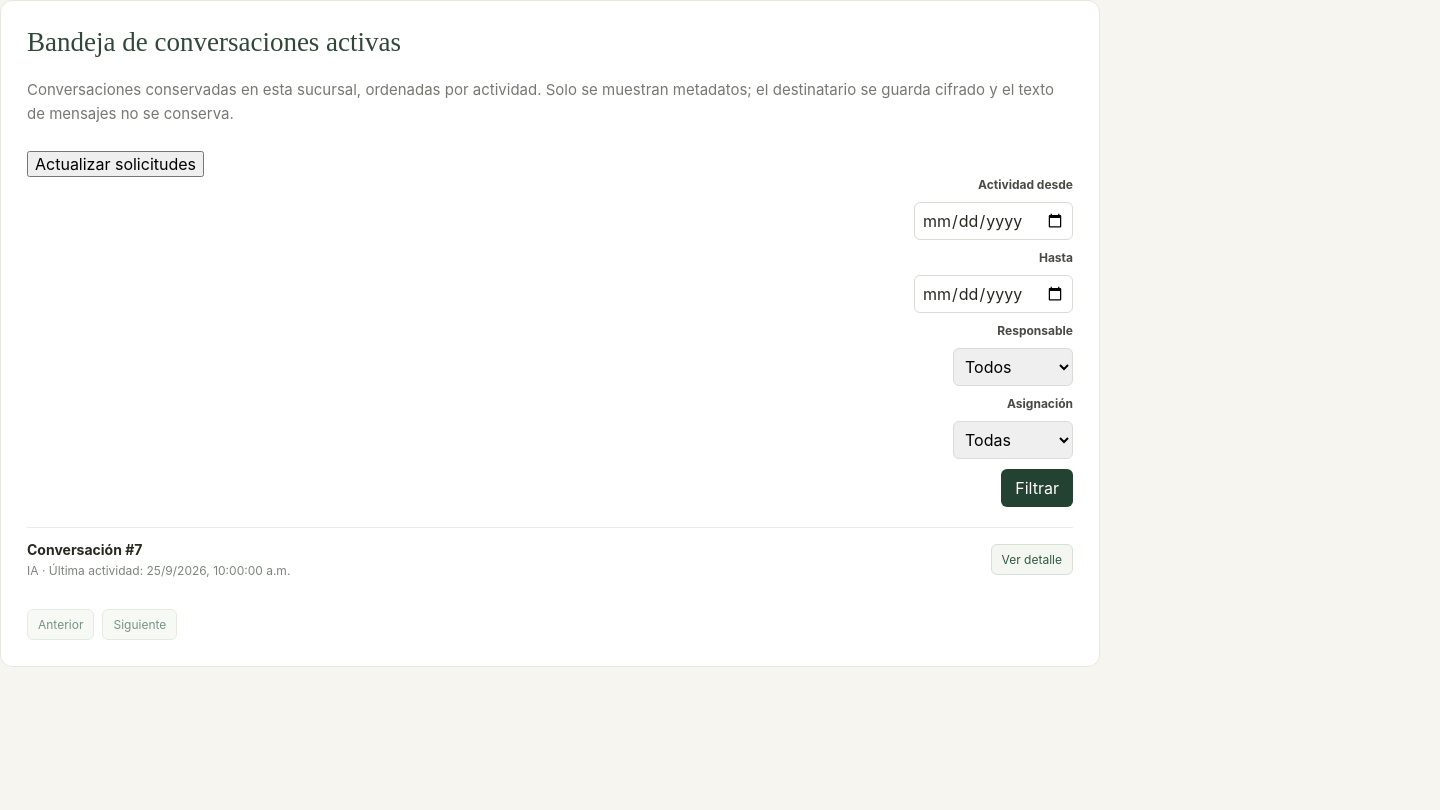
Test: filtra conversaciones y muestra solo el detalle mínimo
The width and height of the screenshot is (1440, 810).
Check: the text "Conversación #7" is shown, box [27,541,142,558]
In the date field labelled "Actividad desde": (994, 221) [914,202,1073,240], type "2026-09-01"
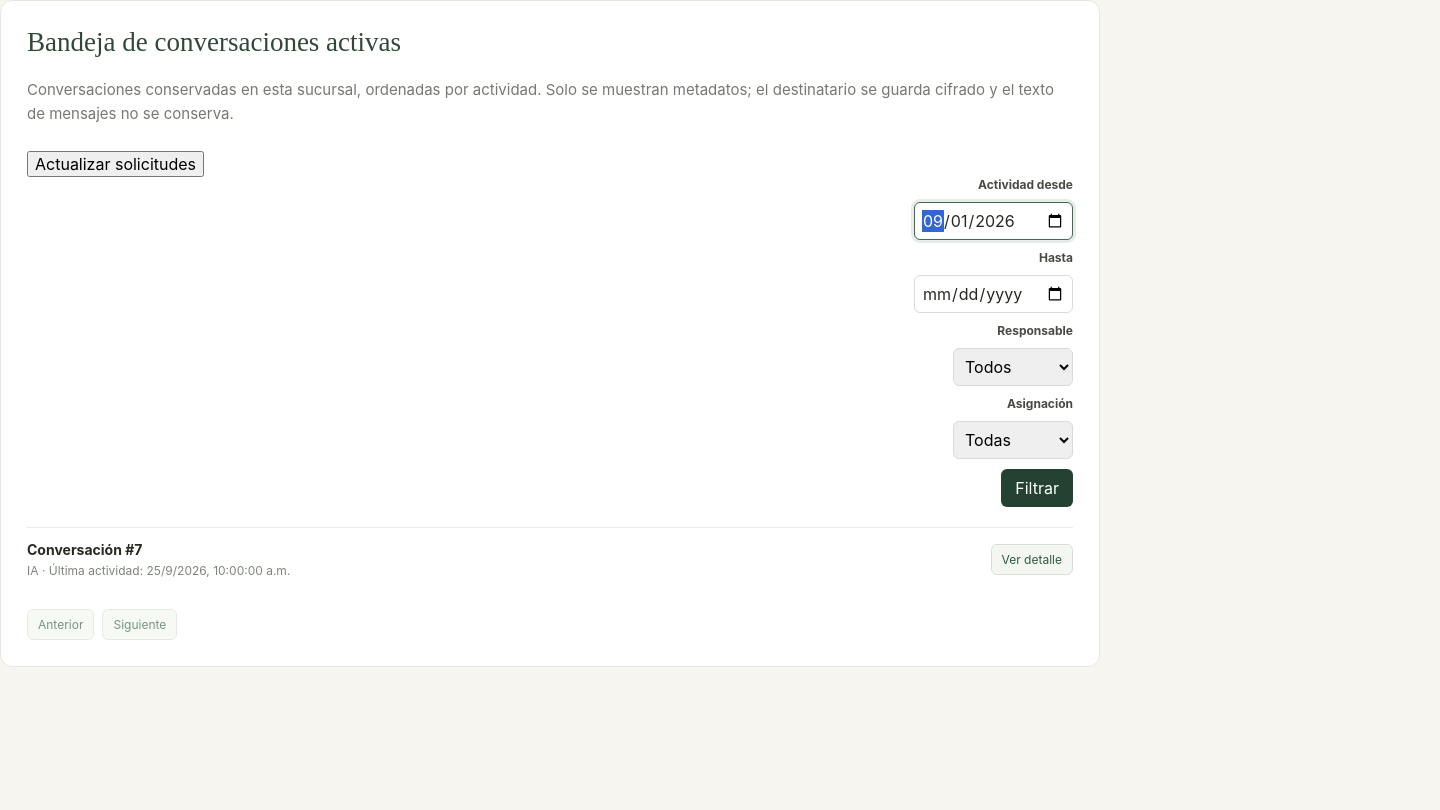
Click the button "Filtrar": (1037, 488) [1001,469,1073,507]
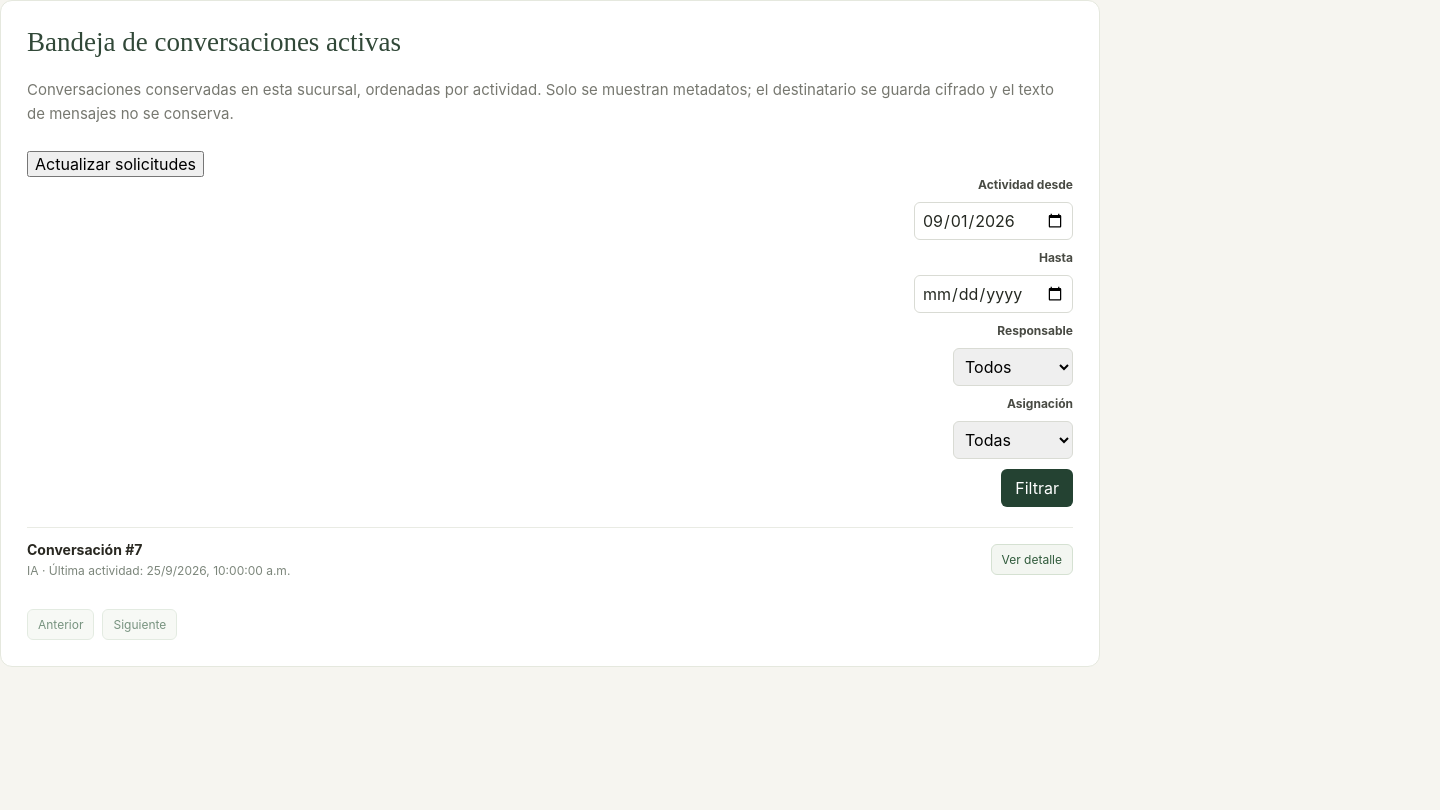
Click the button "Ver detalle": (1032, 560) [991,544,1073,575]
(page scrolled)
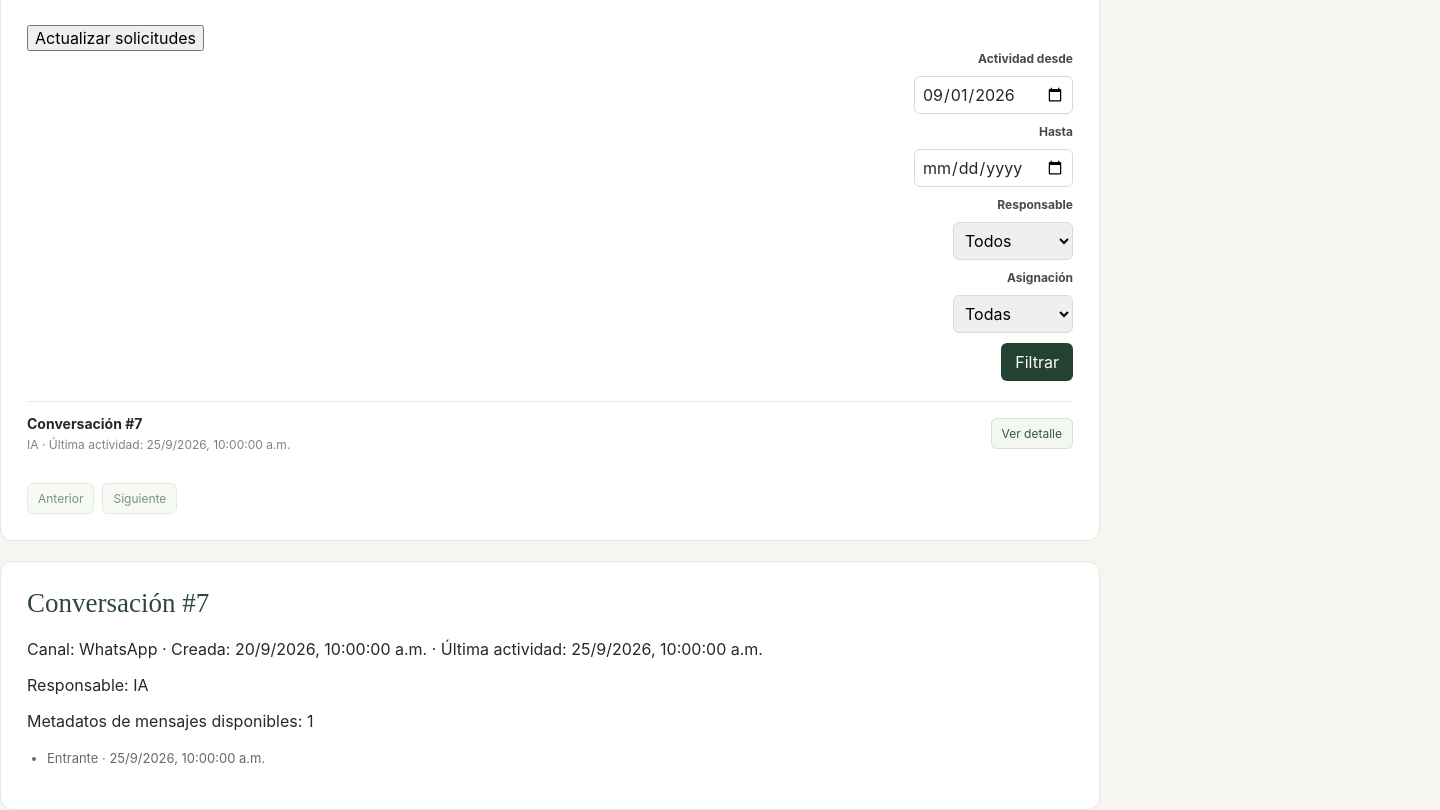
Check: the text "Metadatos de mensajes disponibles: 1" is shown, box [27,711,313,731]
Check: the text "Entrante" is shown, box [47,750,98,766]
